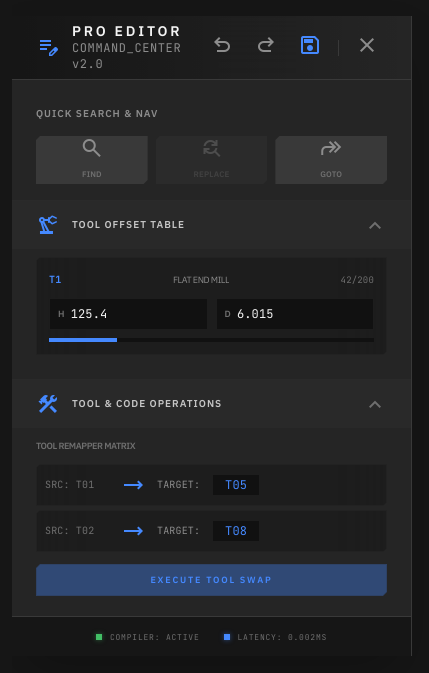
Test case: EditSidebar › Find › shows "No matches" and clears the highlight for a query that matches nothing
Click the button "FIND": (92, 160) x1=36 y1=136 x2=148 y2=184
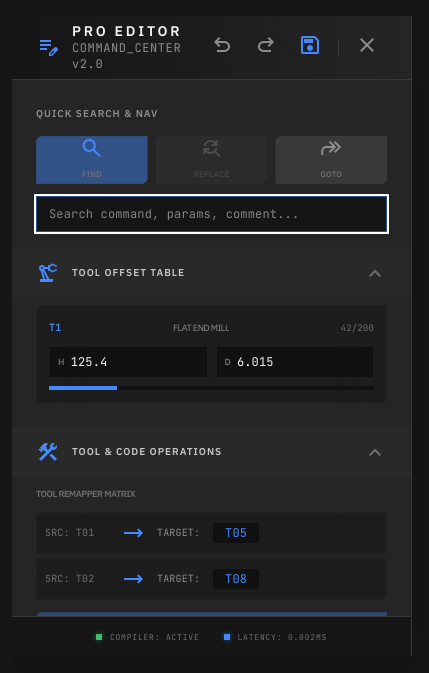
In the field named "Find in G-code": (212, 214) x1=36 y1=196 x2=387 y2=232, type "zzz"
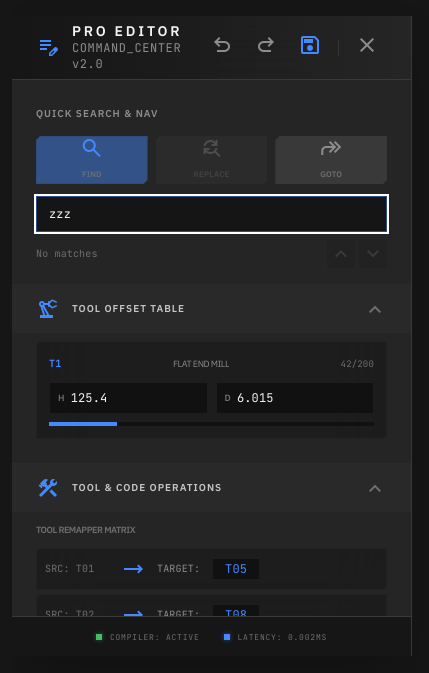
Result: the text "No matches" is shown at x1=36 y1=244 x2=98 y2=264
